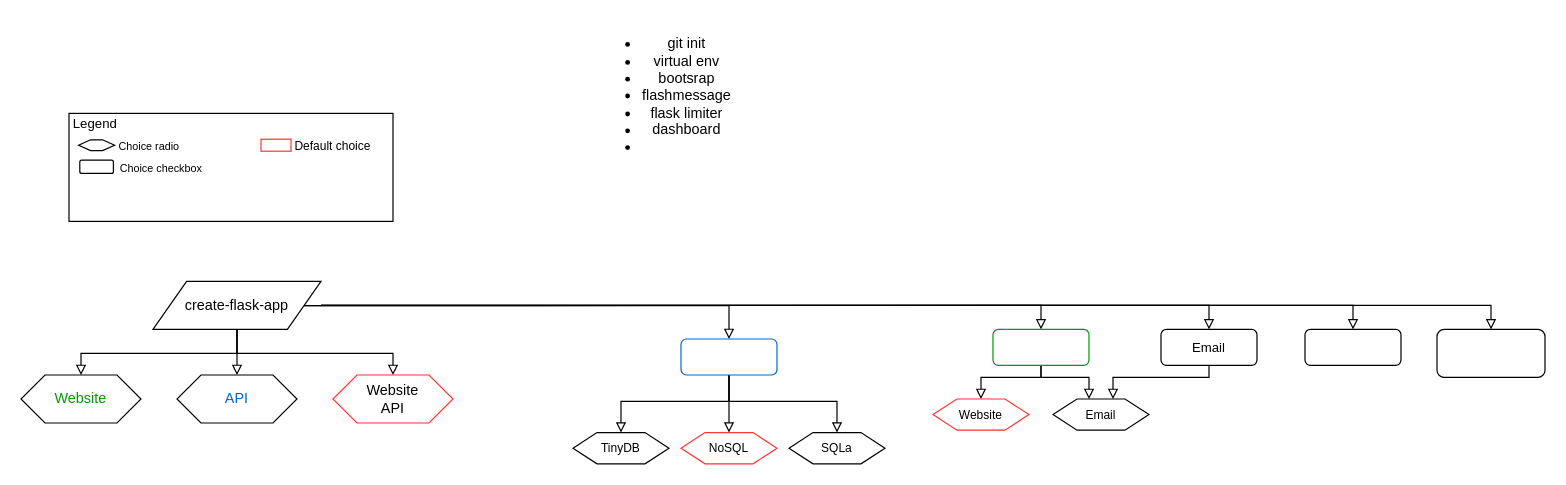
The diagram is 1566 pixels wide and 485 high, and some of its shapes have lost their labels. Each missing label, with the box of its shape:
Custom (services/utils): (1436, 328, 1545, 377)
Database: (680, 338, 777, 375)
Forms: (1304, 328, 1401, 365)
Templates: (992, 328, 1089, 365)
